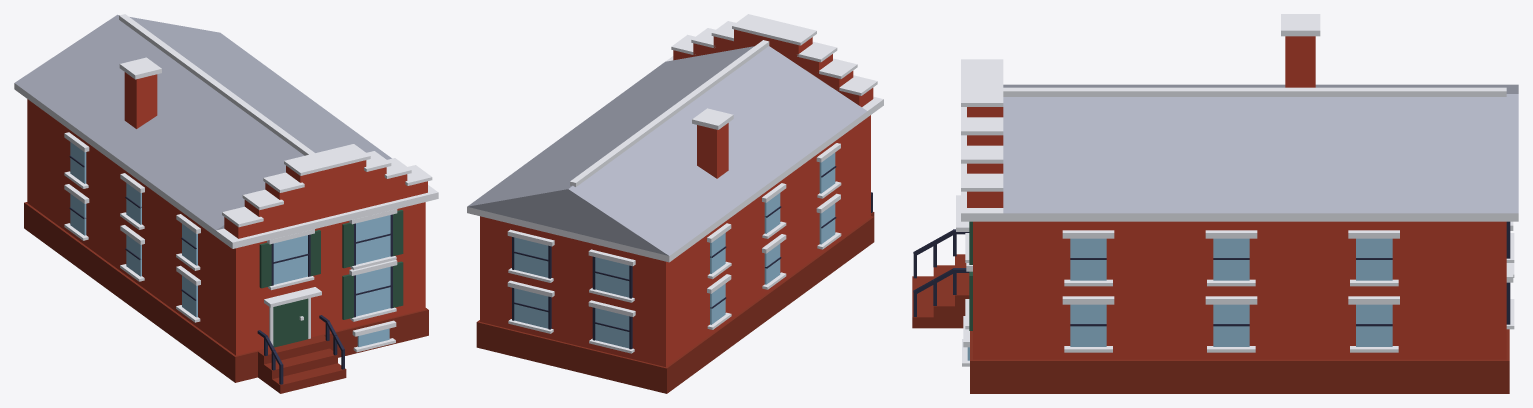
The model's file is house-1x2-2f-dutch-a.glb.
3 renders of one model, left to right at view 1: azimuth 30°, elevation 25°; view 2: azimuth 150°, elevation 25°; view 3: azimuth 270°, elevation 25°, orthographic. The views are drawn at different scales.
Parts seen in each view (by area): view 1: house-1x2-2f-dutch-a; view 2: house-1x2-2f-dutch-a; view 3: house-1x2-2f-dutch-a.
Part boxes in pixels (x1,y1,x2,y2): house-1x2-2f-dutch-a: [14, 14, 438, 393]; house-1x2-2f-dutch-a: [467, 14, 883, 393]; house-1x2-2f-dutch-a: [912, 14, 1518, 393].
Bounding box in the file's own units: 1 × 0.99 × 2.
Materials: 1 (1 with a texture image).
